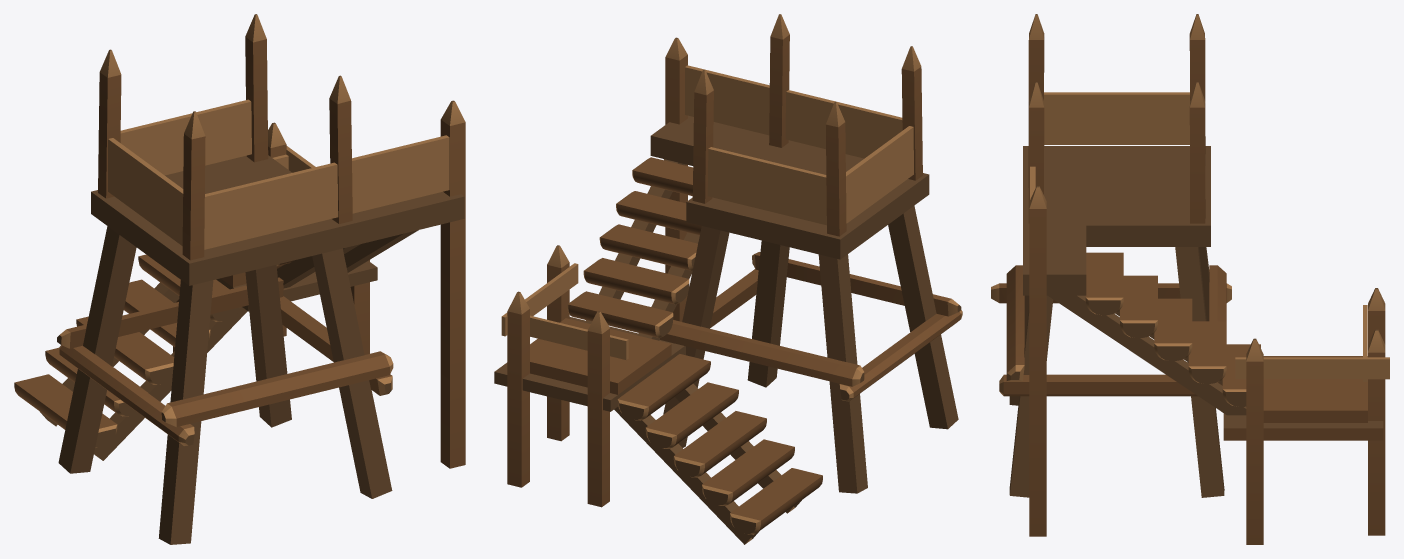
File: Вышка.fbx
3 renders of one model, left to right at view 1: azimuth 30°, elevation 25°; view 2: azimuth 150°, elevation 25°; view 3: azimuth 270°, elevation 25°, orthographic. The views are drawn at different scales.
Parts seen in each view (by area): view 1: Cube; view 2: Cube; view 3: Cube.
Boxes of the visible parts, x1,y1,x2,y2 form: Cube: (14, 14, 465, 544); Cube: (494, 14, 962, 544); Cube: (991, 14, 1389, 544).
Size of the model in its own units: 2.56 by 3.25 by 2.82.
